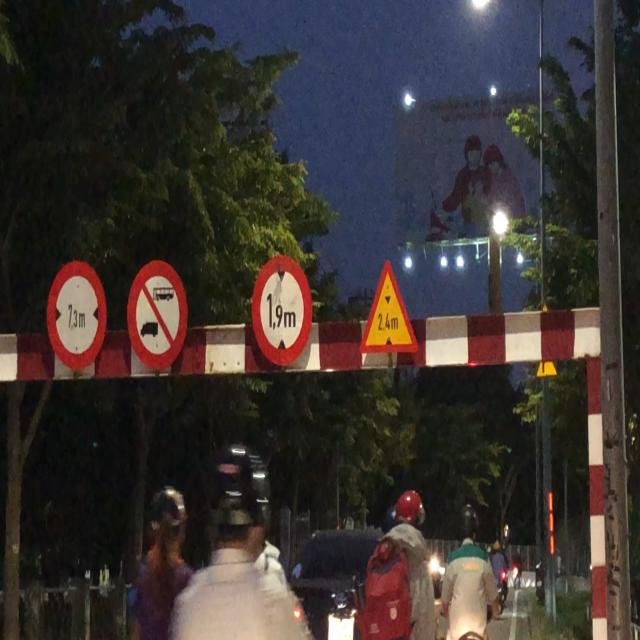Bien bao cam xe oto khach va xe oto tai: (125, 256, 186, 376)
Bien bao chieu cao tinh khong thuc te: (354, 252, 430, 364)
Bien bao han che chieu cao: (250, 250, 316, 375)
